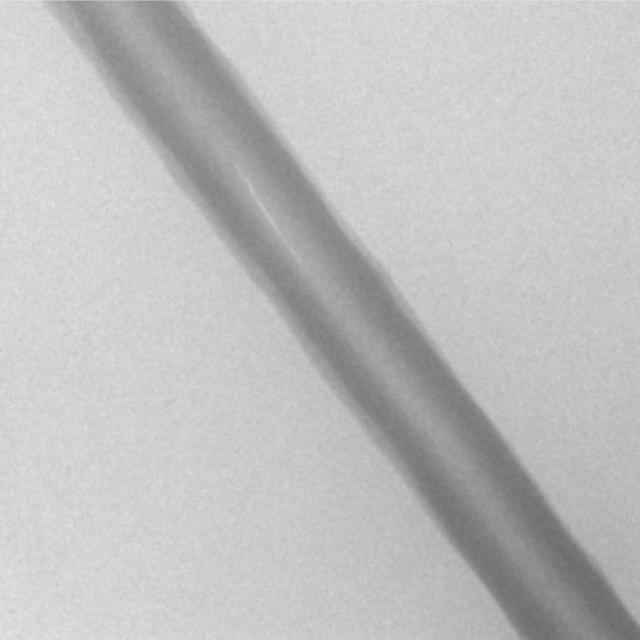crack: (241, 172, 301, 263)
